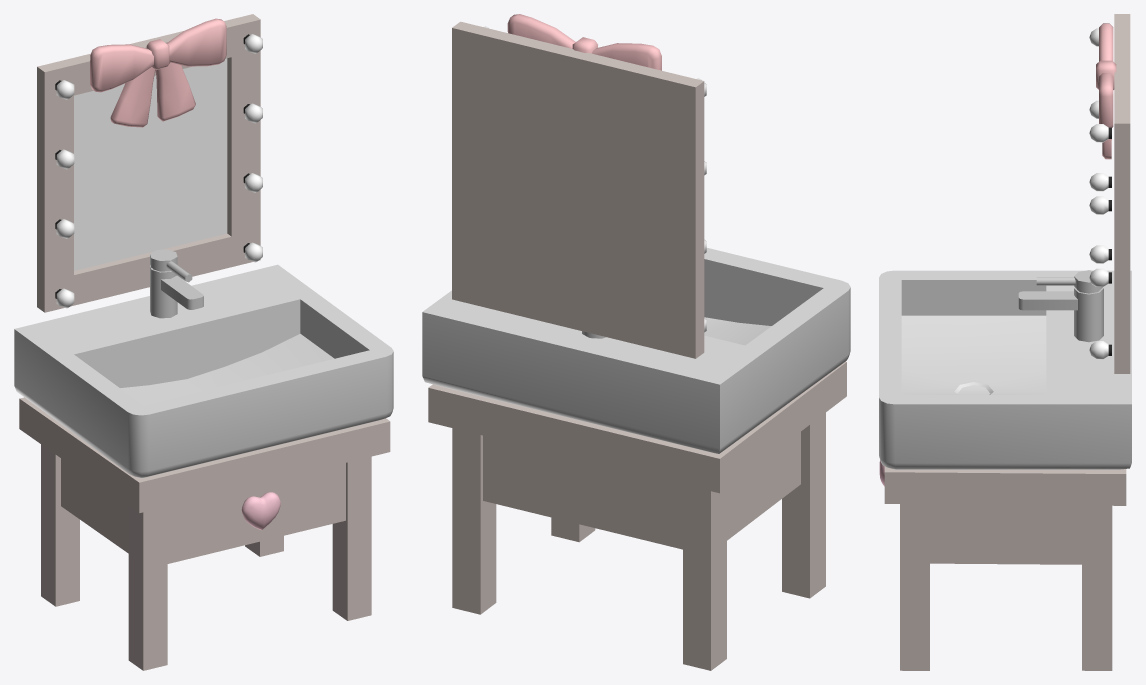
The model's file is washstand_K.fbx.
The picture shows the model from 3 angles, left to right: view 1: azimuth 30°, elevation 25°; view 2: azimuth 150°, elevation 25°; view 3: azimuth 270°, elevation 25°; orthographic projection. The views are drawn at different scales.
Parts seen in each view (by area): view 1: polySurface1.001, polySurface1, polySurface5.001, polySurface9.001, Faucet_03Shape, Cylinder.002; view 2: polySurface1, polySurface5.001, polySurface1.001, polySurface9.001; view 3: polySurface1.001, polySurface5.001, polySurface1, Faucet_03Shape, polySurface9.001.
Part boxes in pixels (<box>): polySurface1.001: <box>14,264,393,477</box>; polySurface1: <box>37,14,260,312</box>; polySurface5.001: <box>19,397,390,670</box>; polySurface9.001: <box>90,18,226,127</box>; Faucet_03Shape: <box>150,249,203,318</box>; Cylinder.002: <box>241,492,280,530</box>; polySurface1: <box>452,21,704,358</box>; polySurface5.001: <box>428,361,846,670</box>; polySurface1.001: <box>422,248,850,453</box>; polySurface9.001: <box>507,14,661,70</box>; polySurface1.001: <box>879,270,1131,469</box>; polySurface5.001: <box>884,466,1126,670</box>; polySurface1: <box>1114,14,1130,373</box>; Faucet_03Shape: <box>1018,270,1103,342</box>; polySurface9.001: <box>1096,23,1116,159</box>.
Size of the model in its own units: 65.63 by 128 by 52.34.
